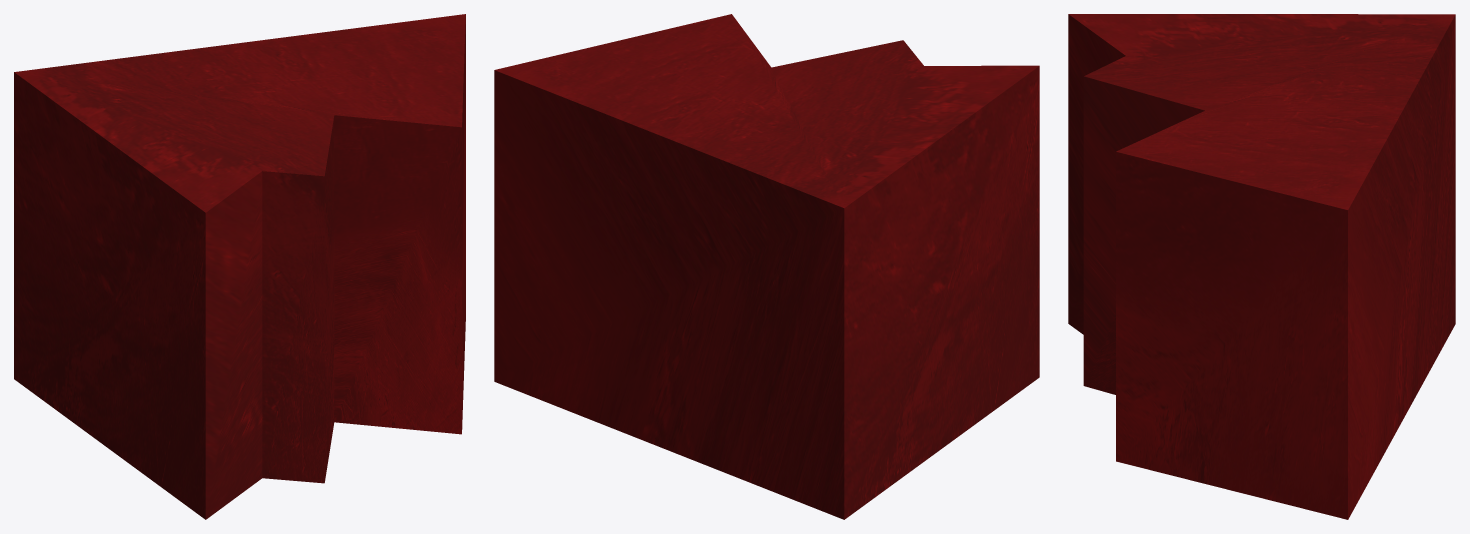
The model's file is rouge3.FBX.
3 views of the same model, side by side, from view 1: azimuth 30°, elevation 25°; view 2: azimuth 150°, elevation 25°; view 3: azimuth 270°, elevation 25° (orthographic).
Parts seen in each view (by area): view 1: Ligne022; view 2: Ligne022; view 3: Ligne022.
Boxes of the visible parts, left/top/right/bottom form: Ligne022: left=14, top=14, right=465, bottom=519; Ligne022: left=494, top=14, right=1039, bottom=519; Ligne022: left=1068, top=14, right=1455, bottom=519.
Size of the model in its own units: 11.67 by 8.59 by 9.74.
Materials: 1 (1 with a texture image).
